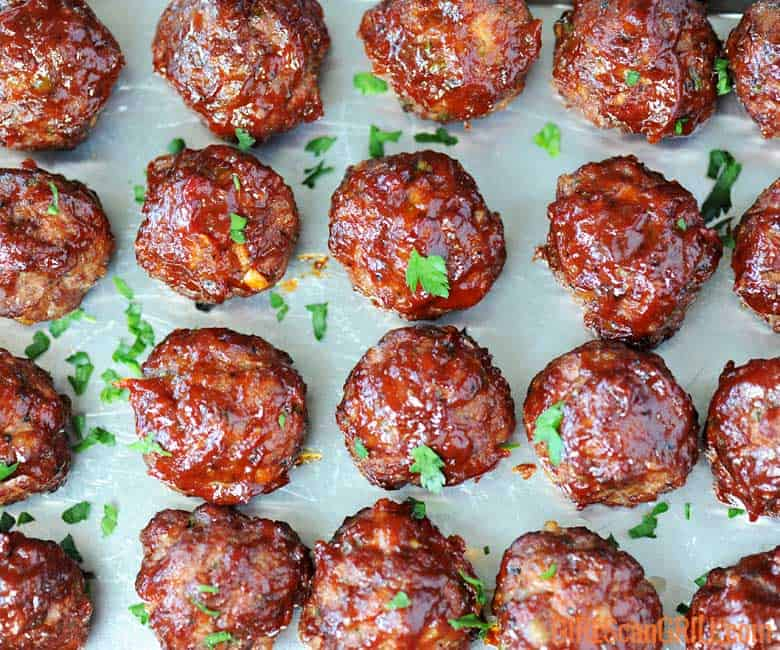meatballs: (154, 21, 764, 638)
